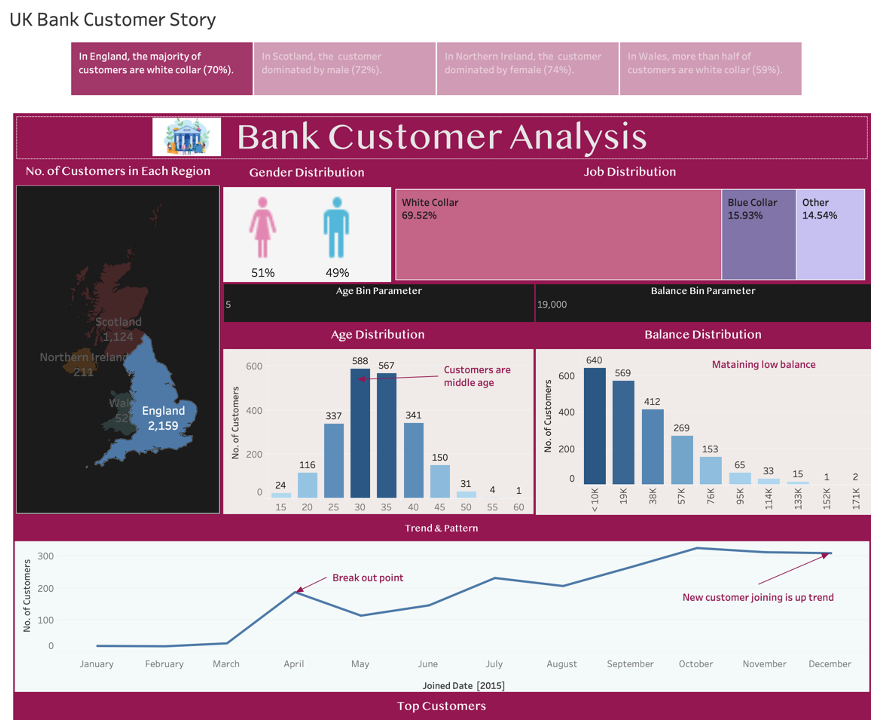

This screenshot's page, from the dashboard's own definition file:
{"tool":"tableau","page":{"name":"Dashboard","canvas":[1155,955],"ordinal":0},"visuals":[{"type":"text","box":[8,8,1139,65]},{"type":"image","param":"/Users/cw/Documents/Data_Science/Training Program/Task Impetus | Data Analytics/","box":[193,14,91,52]},{"type":"worksheet","title":"Map","mark":"Multipolygon","box":[12,70,271,470]},{"type":"worksheet","title":"Job Distribution","mark":"Automatic","box":[512,71,631,162]},{"type":"worksheet","title":"Gender Shape","mark":"Shape","box":[287,72,222,160]},{"type":"parameter","param":"[Parameters].[Parameter 1]","box":[288,235,412,50]},{"type":"parameter","param":"[Parameters].[Balance Bin Parameter]","box":[702,235,445,50]},{"type":"worksheet","title":"Age Bin","mark":"Bar","rows":["Customer ID"],"cols":["Age (bin)"],"box":[287,287,411,253]},{"type":"worksheet","title":"Balance Bin","mark":"Automatic","rows":["Customer ID"],"cols":["Balance (bin)"],"box":[702,287,445,254]},{"type":"worksheet","title":"Trend & Pattern","mark":"Automatic","rows":["Customer ID"],"cols":["Date Joined"],"box":[10,545,1134,231]},{"type":"worksheet","title":"Top Customer Index","mark":"Automatic","rows":["Region","Calculation_119063981461561348"],"box":[11,780,1132,160]}]}

Visuals, with their boxes in screenshot pixels (x1, y1, x2, y2), scaled from the page's 1155x955 canvas onto the 872x720 screenshot:
text: [6,6,866,55]
image: [146,11,214,50]
"Map" worksheet (Multipolygon marks): [9,53,214,407]
"Job Distribution" worksheet: [387,54,863,176]
"Gender Shape" worksheet (Shape marks): [217,54,384,175]
parameter: [217,177,528,215]
parameter: [530,177,866,215]
"Age Bin" worksheet (Bar marks): [217,216,527,407]
"Balance Bin" worksheet: [530,216,866,408]
"Trend & Pattern" worksheet: [8,411,864,585]
"Top Customer Index" worksheet: [8,588,863,709]
